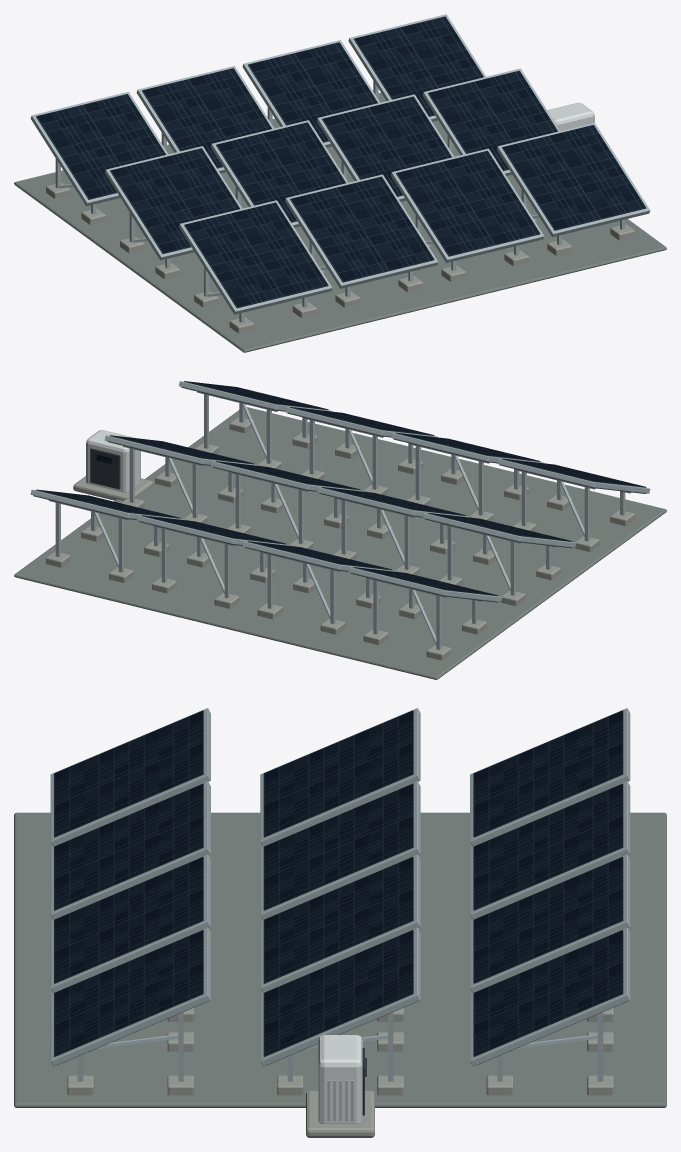
Rendered from 059_solar_array.glb.
The picture shows the model from 3 angles, top to bottom: view 1: azimuth 30°, elevation 25°; view 2: azimuth 150°, elevation 25°; view 3: azimuth 270°, elevation 25°; orthographic projection. The views are drawn at different scales.
Parts seen in each view (by area): view 1: ArrayAssembly; view 2: ArrayAssembly; view 3: ArrayAssembly.
Boxes of the visible parts, left/top/right/bottom form: ArrayAssembly: left=14, top=14, right=666, bottom=352; ArrayAssembly: left=14, top=381, right=666, bottom=679; ArrayAssembly: left=14, top=708, right=666, bottom=1137.
Size of the model in its own units: 7.72 by 1.24 by 6.6.
Materials: 6 (1 with a texture image).
